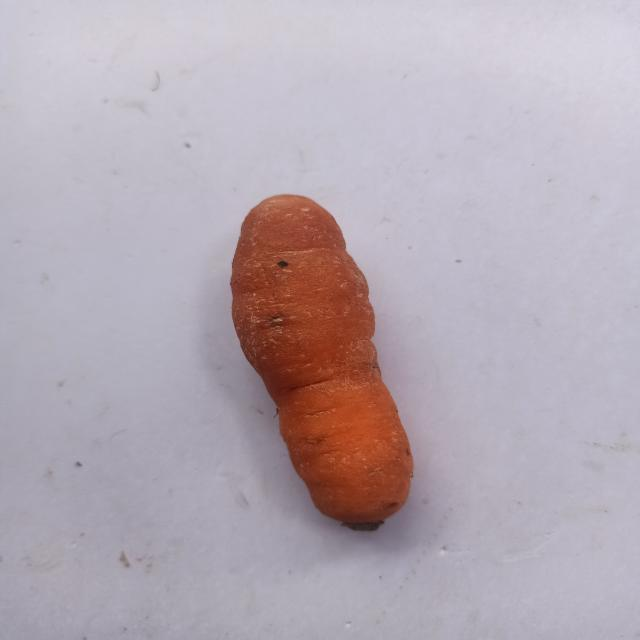Carrot: (218, 172, 432, 553)
